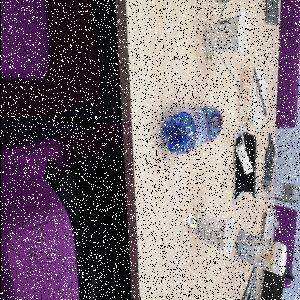Cup: (192, 214, 235, 258), (204, 13, 249, 55)
Plastic-bottle: (162, 106, 224, 156), (254, 177, 300, 212)
